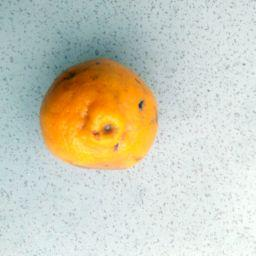Unripe: (41, 54, 159, 170)
